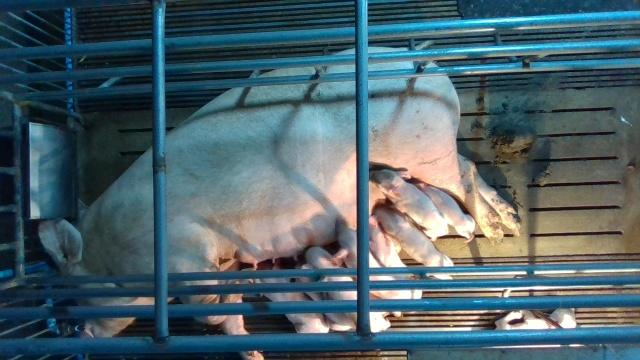piglet: (300, 246, 391, 334), (332, 220, 413, 300), (373, 205, 454, 279), (370, 170, 449, 243), (256, 277, 329, 334), (416, 184, 475, 245), (493, 308, 575, 330)
sow-sleep-lactate: (38, 47, 520, 337)
